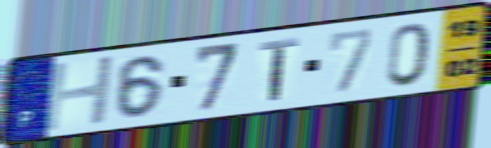0: (385, 21, 434, 88)
6: (115, 52, 171, 120)
7: (192, 41, 242, 115), (327, 26, 375, 96)
H: (41, 53, 118, 135)
T: (257, 36, 301, 103)
